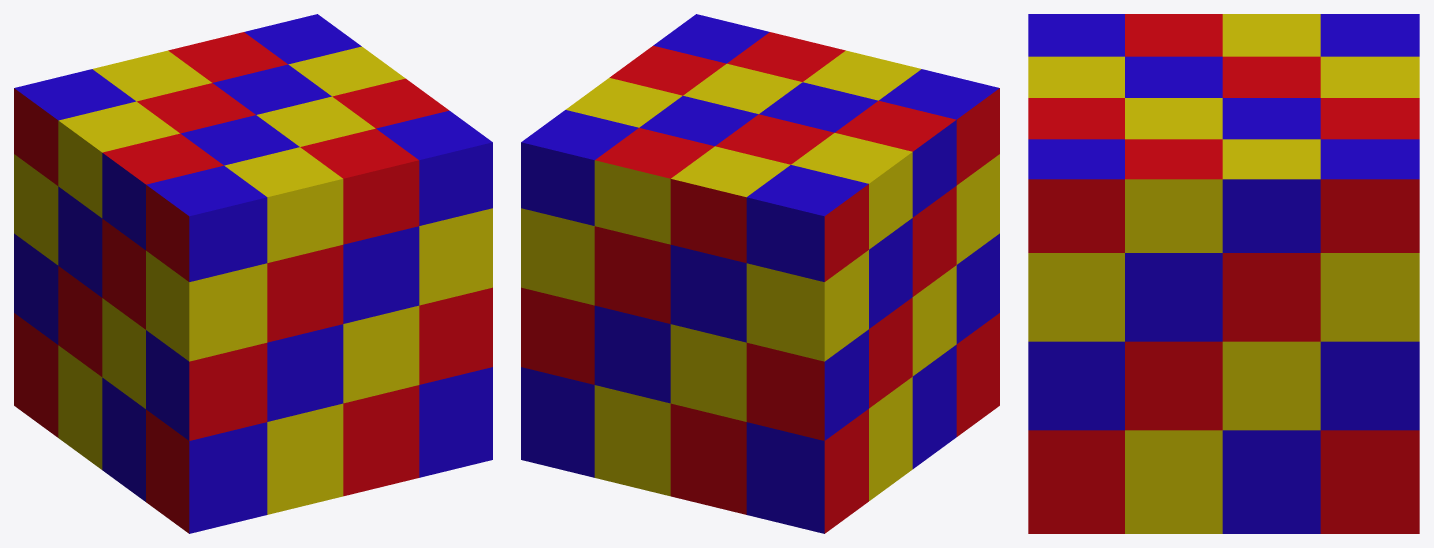
The model's file is Square.fbx.
The picture shows the model from 3 angles, left to right: view 1: azimuth 30°, elevation 25°; view 2: azimuth 150°, elevation 25°; view 3: azimuth 270°, elevation 25°; orthographic projection. The views are drawn at different scales.
Visible parts, largest first — view 1: Cube; view 2: Cube; view 3: Cube.
Part boxes in pixels (x1,y1,x2,y2): Cube: (14,14,492,533); Cube: (521,14,999,533); Cube: (1028,14,1419,533).
Size of the model in its own units: 200 by 200 by 200.
